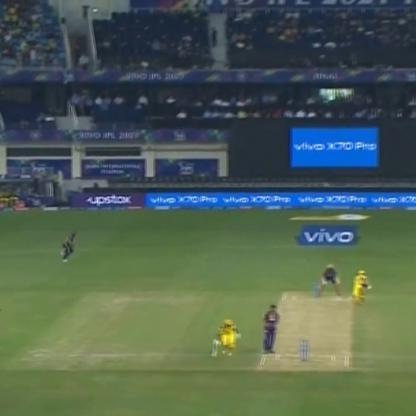pitch: (252, 292, 352, 376)
